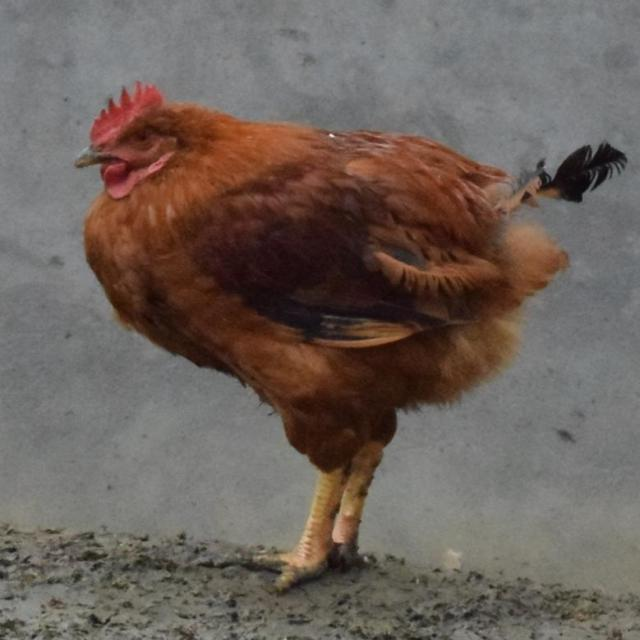cook: (76, 82, 626, 590)
